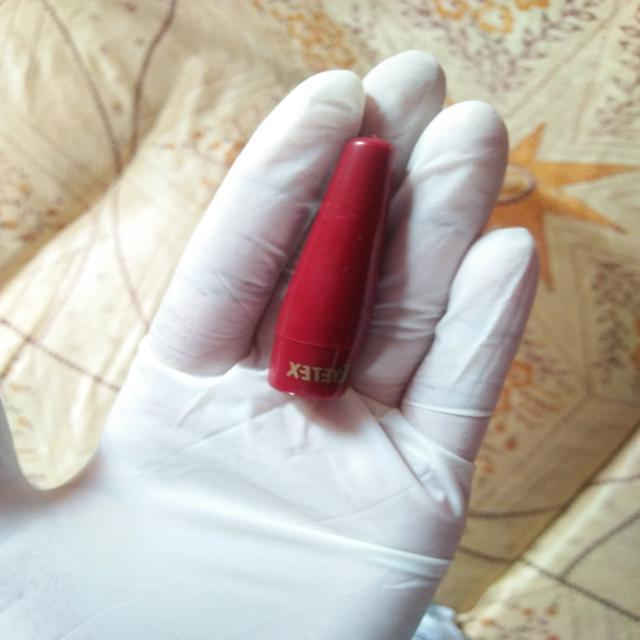gloved_hand: (3, 44, 543, 637)
